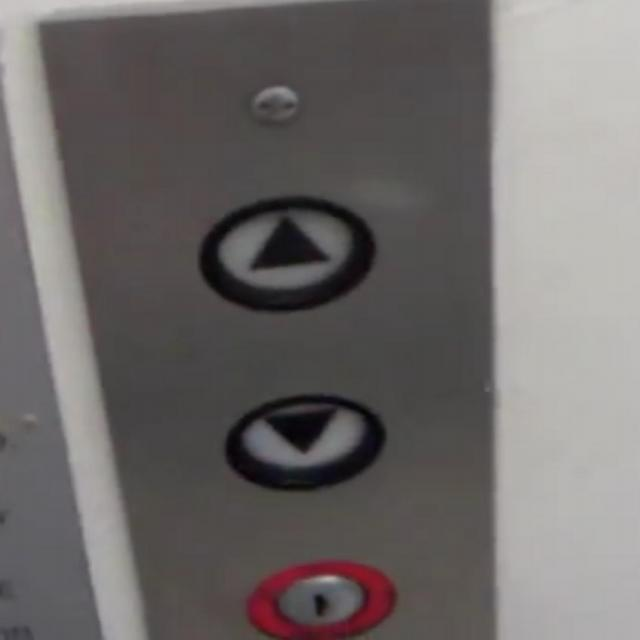down: (221, 388, 388, 495)
keyhole: (237, 554, 405, 640)
up: (193, 189, 381, 316)
